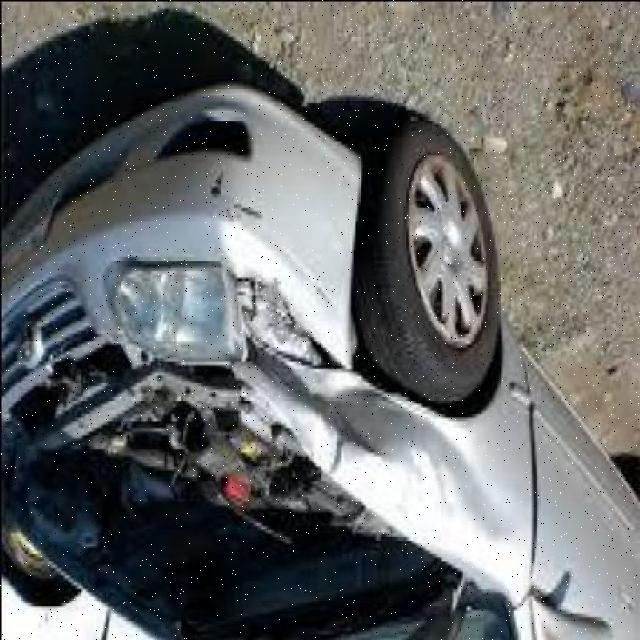damage: (185, 155, 526, 599)
